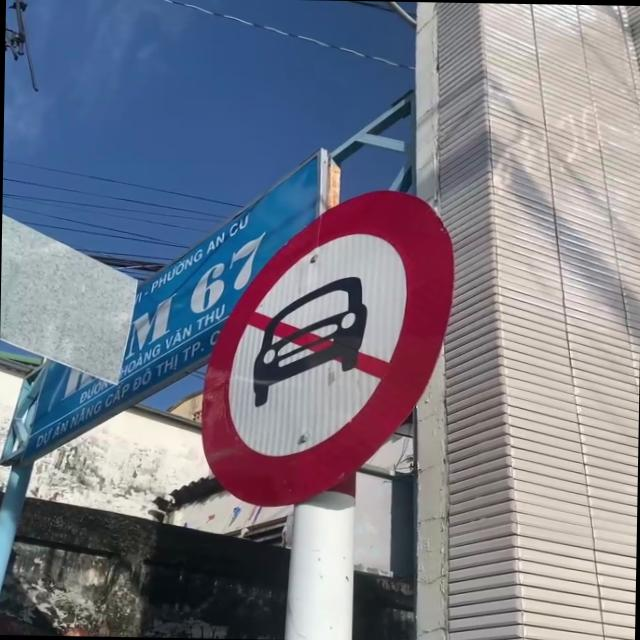Cam_O_To: (200, 189, 456, 511)
